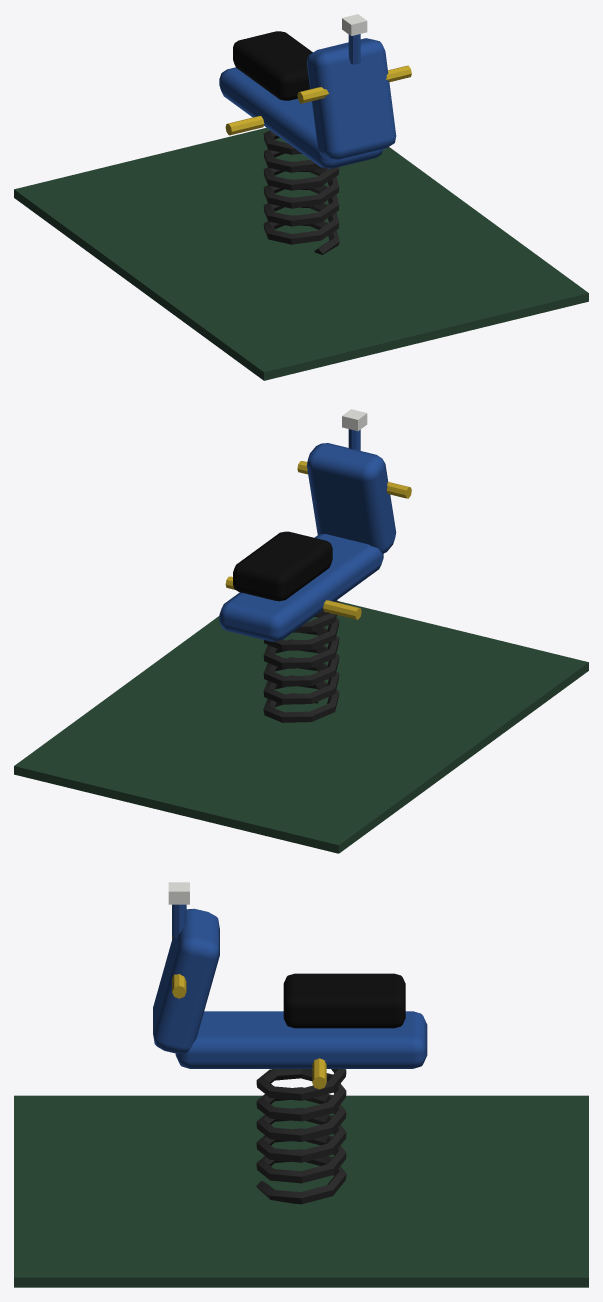
File: sport.play.springer_scooter.glb
3 views of the same model, one above another, from view 1: azimuth 30°, elevation 25°; view 2: azimuth 150°, elevation 25°; view 3: azimuth 270°, elevation 25° (orthographic). The views are drawn at different scales.
Visible parts, largest first — view 1: main__paint_243, main__paint_259, main__steel_222, main__rubber, main__paint_ca2; view 2: main__paint_243, main__paint_259, main__steel_222, main__rubber, main__paint_ca2; view 3: main__paint_243, main__paint_259, main__steel_222, main__rubber, main__paint_ca2.
Part boxes in pixels (<box>): main__paint_243: <box>14,127,588,380</box>; main__paint_259: <box>219,34,396,168</box>; main__steel_222: <box>263,130,339,254</box>; main__rubber: <box>233,31,312,100</box>; main__paint_ca2: <box>225,65,411,135</box>; main__paint_243: <box>14,601,588,853</box>; main__paint_259: <box>219,429,396,641</box>; main__steel_222: <box>263,600,339,722</box>; main__rubber: <box>233,531,332,601</box>; main__paint_ca2: <box>225,461,411,619</box>; main__paint_243: <box>14,1095,588,1287</box>; main__paint_259: <box>153,904,427,1068</box>; main__steel_222: <box>256,1069,346,1204</box>; main__rubber: <box>283,973,405,1028</box>; main__paint_ca2: <box>172,936,326,1089</box>.
Bounding box in the file's own units: 1.2 × 0.954 × 1.6.
